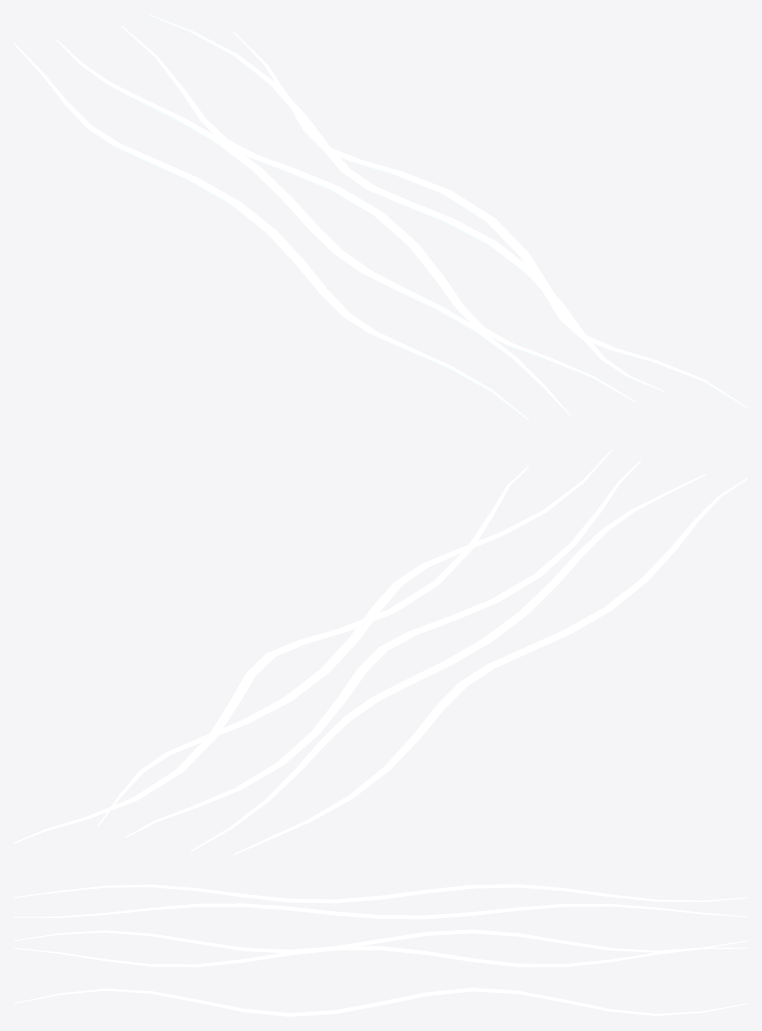
Rendered from SM_Env_WindCurrent_HQ.glb.
3 views of the same model, one above another, from view 1: azimuth 30°, elevation 25°; view 2: azimuth 150°, elevation 25°; view 3: azimuth 270°, elevation 25° (orthographic). The views are drawn at different scales.
Visible parts, largest first — view 1: SM_Env_WindCurrent_HQ; view 2: SM_Env_WindCurrent_HQ; view 3: SM_Env_WindCurrent_HQ.
Part boxes in pixels (x1,y1,x2,y2): SM_Env_WindCurrent_HQ: (14, 14, 747, 420); SM_Env_WindCurrent_HQ: (14, 449, 747, 855); SM_Env_WindCurrent_HQ: (14, 884, 747, 1016).
Bounding box in the file's own units: 17.11 × 4.66 × 60.
1 material, 1 textured.
